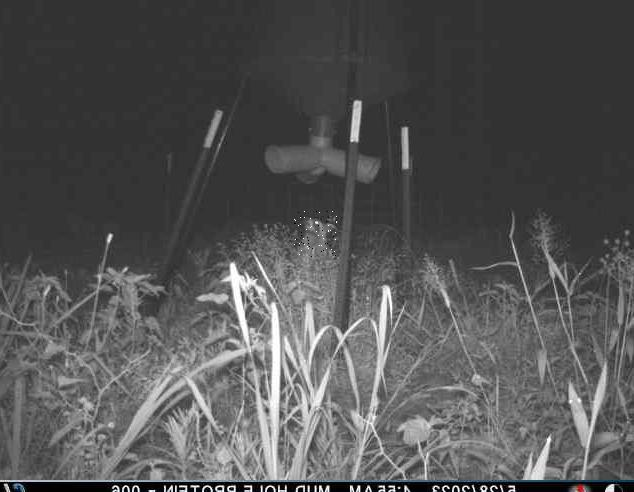Raccoon: (294, 211, 337, 257)
